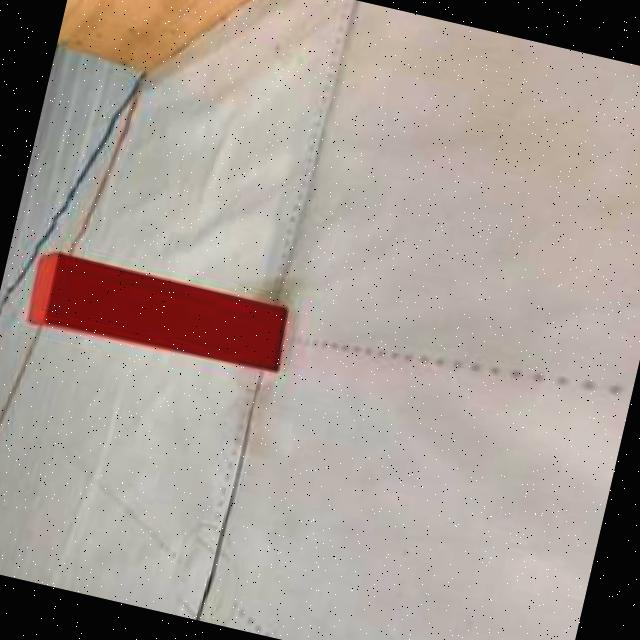redbox: (22, 247, 292, 383)
